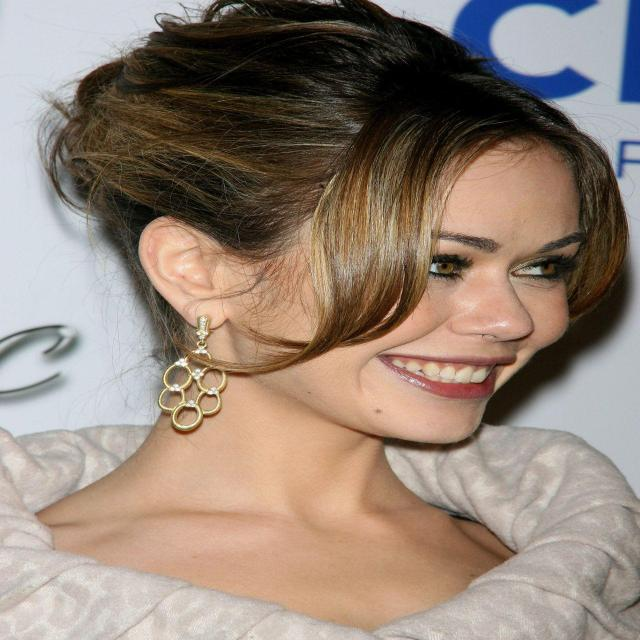no-earmuff: (112, 202, 272, 360)
